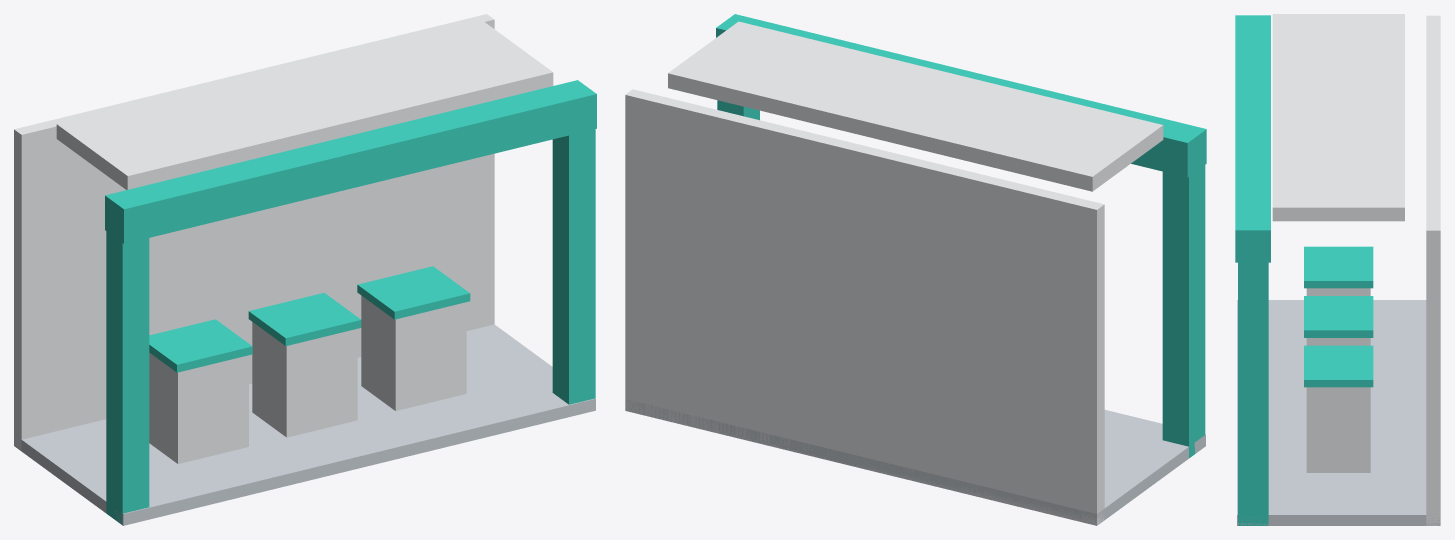
The picture shows the model from 3 angles, left to right: view 1: azimuth 30°, elevation 25°; view 2: azimuth 150°, elevation 25°; view 3: azimuth 270°, elevation 25°; orthographic projection. The views are drawn at different scales.
Visible parts, largest first — view 1: Exhibition Booth Concept; view 2: Exhibition Booth Concept; view 3: Exhibition Booth Concept.
Boxes of the visible parts, box(x1,y1,x2,y2) form: Exhibition Booth Concept: box(14, 14, 596, 525); Exhibition Booth Concept: box(625, 14, 1206, 525); Exhibition Booth Concept: box(1235, 14, 1440, 525).
Size of the model in its own units: 5 by 3.34 by 2.01.
